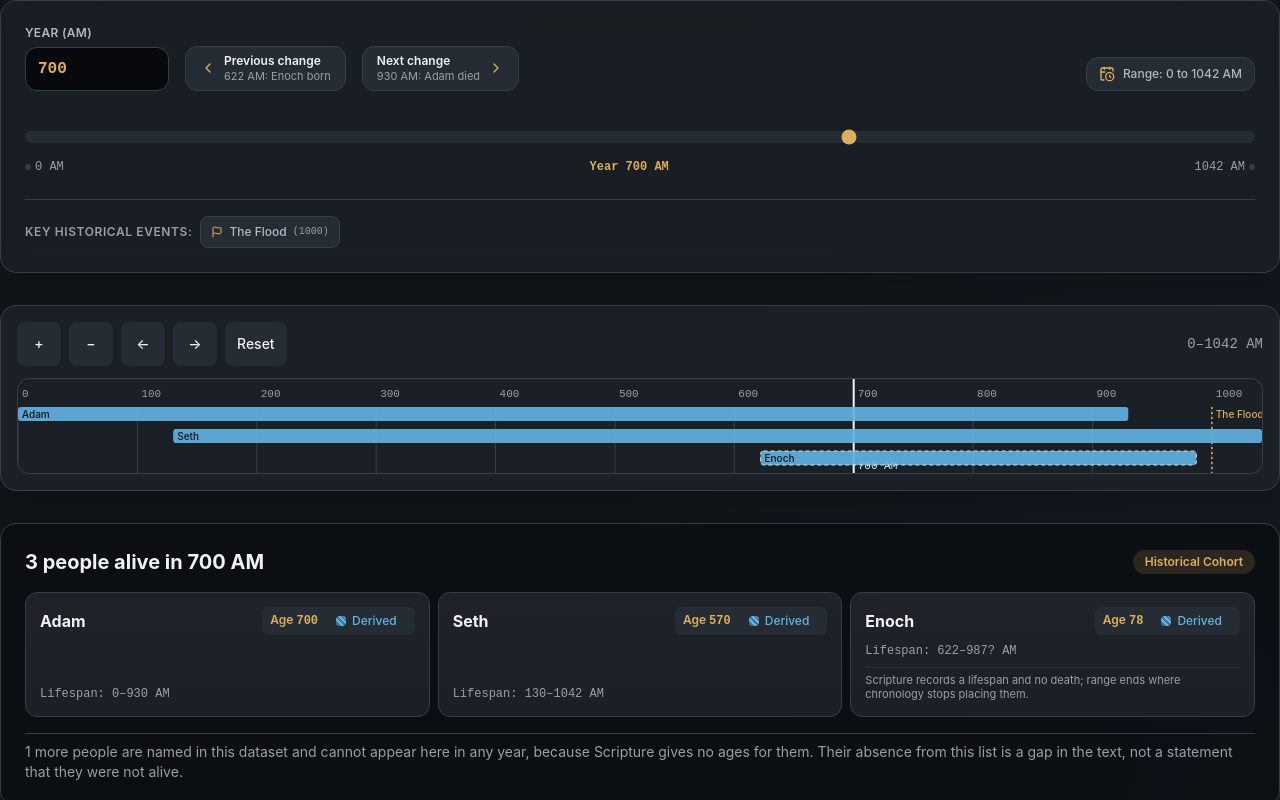
Scenario: YearExplorer › jumps to the next year in which anything changes, not the next year
# Nothing happens between 622 and 930, so the jump is to 930.
Click the button "Next change 930 AM: Adam died". click: (440, 68)
box: [362,46,519,91]
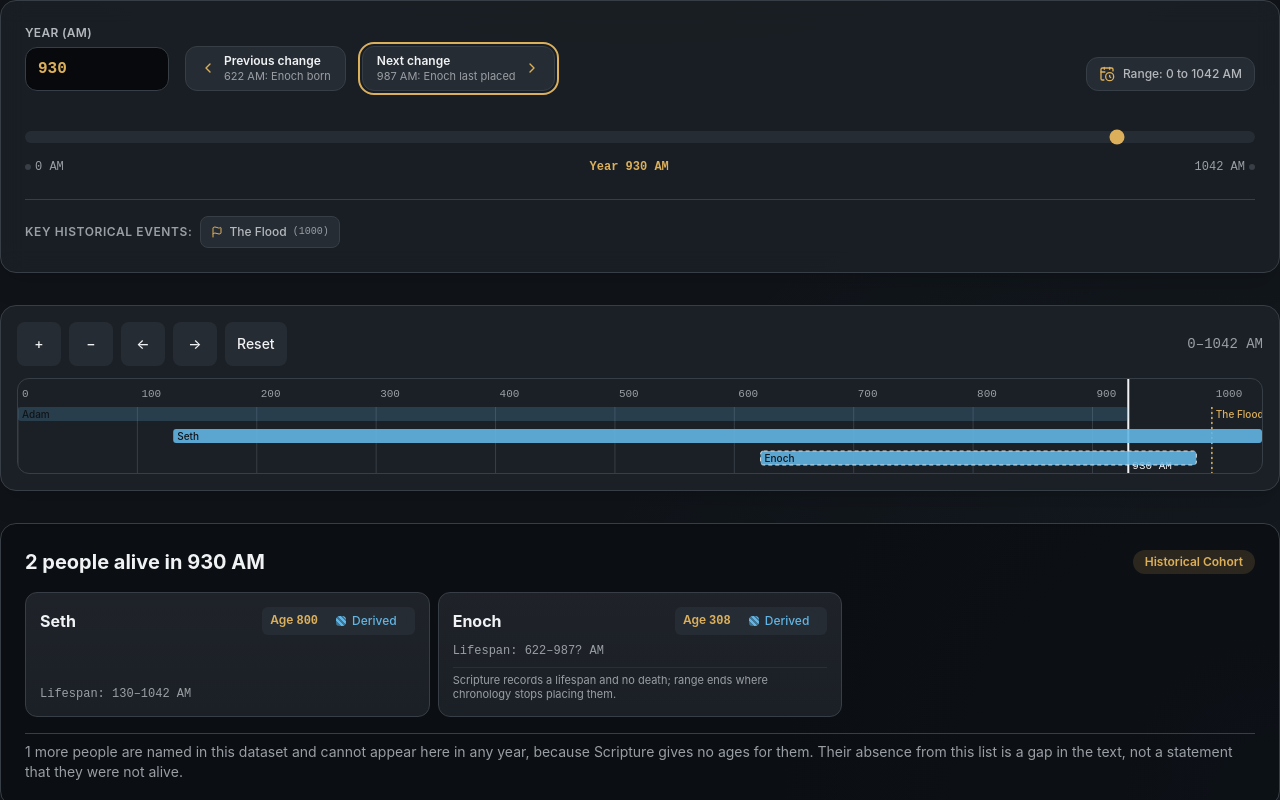
Now the heading with test id "living-heading" shows "930 AM", box [25,550,265,574]
